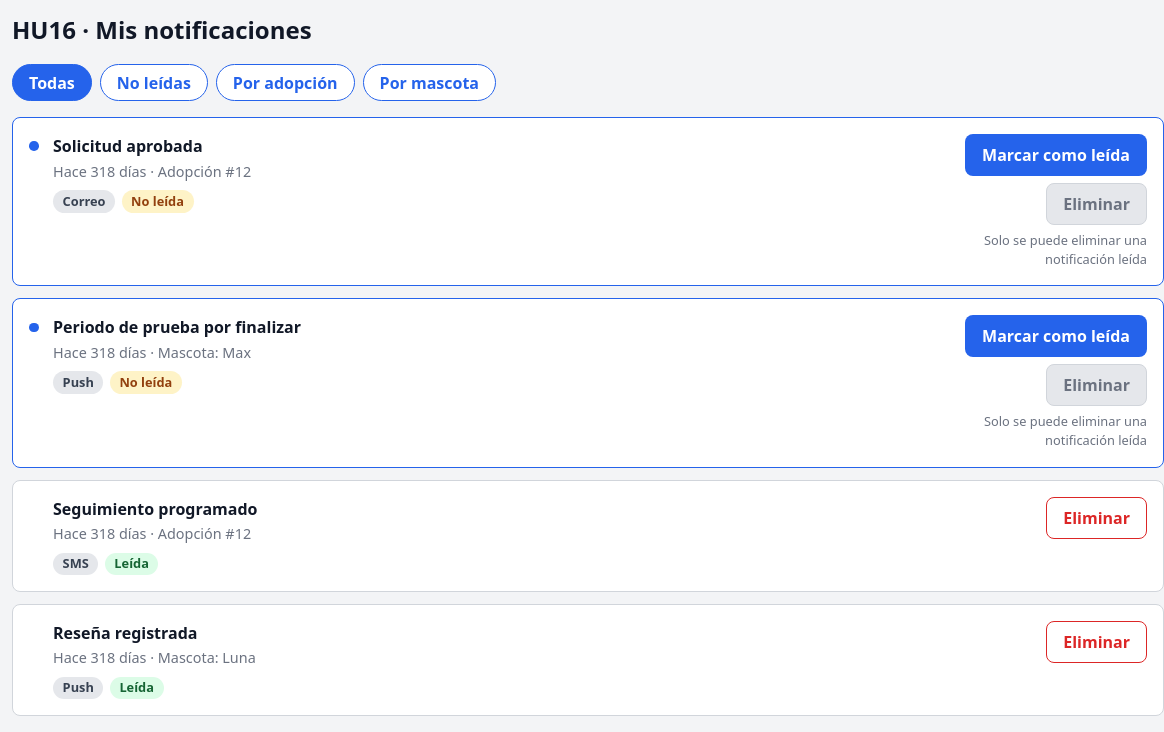
Test: NotificationsPage › marks a notification as read
The width and height of the screenshot is (1164, 732).
Check: the heading "HU16 · Mis notificaciones" is shown, box [12, 13, 312, 46]
Click the button with aria-label "Marcar como leída: Solicitud aprobada" at (1056, 155), box [965, 134, 1147, 176]
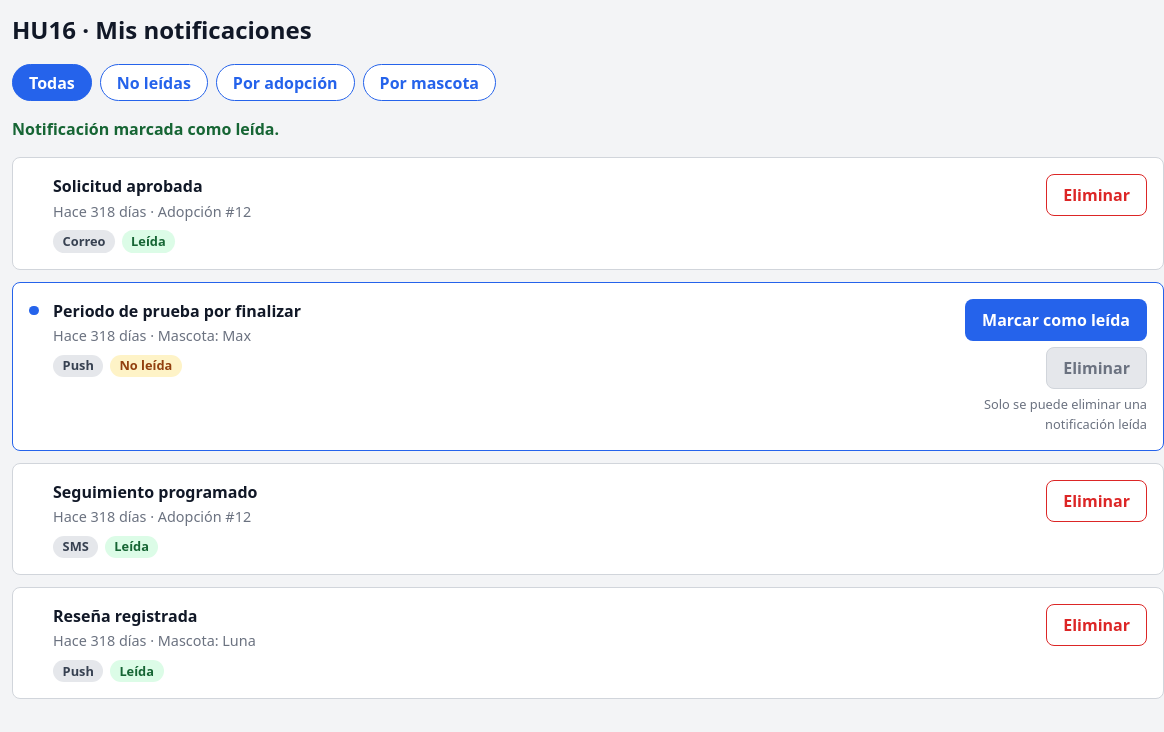
Check: the text "Notificación marcada como leída." is shown, box [12, 118, 279, 140]
Check: the button with aria-label "Eliminar: Solicitud aprobada" is enabled, box [1046, 174, 1147, 216]
